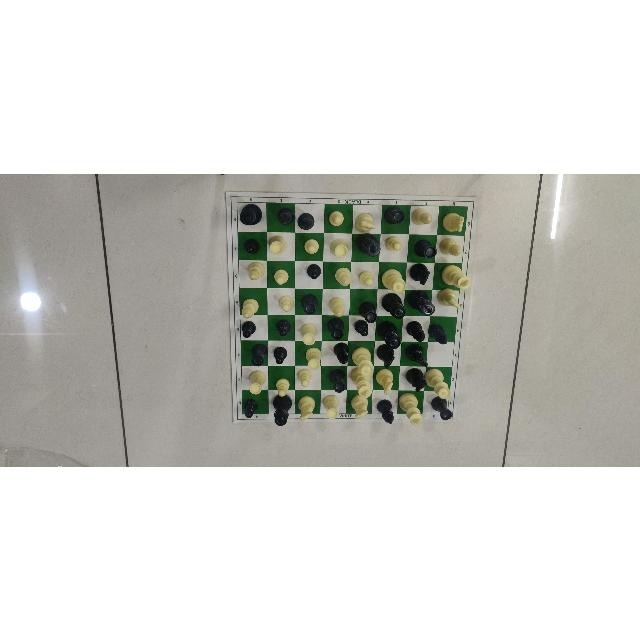black-bishop: (268, 201, 295, 228), (296, 204, 321, 232), (375, 395, 395, 428), (328, 343, 352, 365), (403, 322, 428, 342), (428, 324, 449, 346)
black-king: (407, 289, 437, 317), (353, 233, 383, 257)
black-knight: (403, 339, 429, 364), (402, 366, 428, 390), (407, 263, 433, 283), (377, 346, 397, 364)
black-pawn: (240, 234, 264, 256), (239, 396, 262, 418), (303, 261, 324, 283), (237, 319, 258, 338), (271, 319, 293, 336), (271, 346, 291, 364), (351, 319, 368, 336)
black-queen: (234, 201, 266, 228), (375, 320, 403, 347), (380, 293, 405, 320), (270, 395, 290, 426)
black-rook: (243, 343, 271, 364), (325, 367, 347, 393), (430, 397, 453, 420), (412, 236, 436, 258), (355, 301, 377, 323), (297, 293, 318, 315), (325, 318, 346, 338), (384, 205, 405, 225)
white-bishop: (238, 290, 260, 318), (329, 262, 352, 288), (410, 202, 433, 227), (438, 235, 464, 257), (326, 293, 347, 316), (243, 262, 267, 282)
white-king: (440, 262, 474, 288), (399, 391, 423, 427), (352, 367, 372, 397)
white-knight: (439, 206, 465, 236), (435, 288, 464, 312), (376, 368, 399, 394), (347, 395, 370, 418), (354, 210, 378, 232), (296, 394, 316, 420)
white-pawn: (300, 235, 320, 257), (293, 369, 313, 389), (356, 270, 378, 286), (273, 375, 290, 395), (271, 266, 289, 284), (277, 294, 295, 312), (327, 210, 344, 228), (384, 235, 400, 252)
white-queen: (425, 368, 456, 398), (379, 264, 407, 292), (352, 343, 375, 374)
white-rook: (319, 394, 343, 420), (298, 345, 321, 369), (244, 369, 265, 395), (297, 322, 319, 345), (328, 237, 350, 259), (266, 234, 286, 253)
